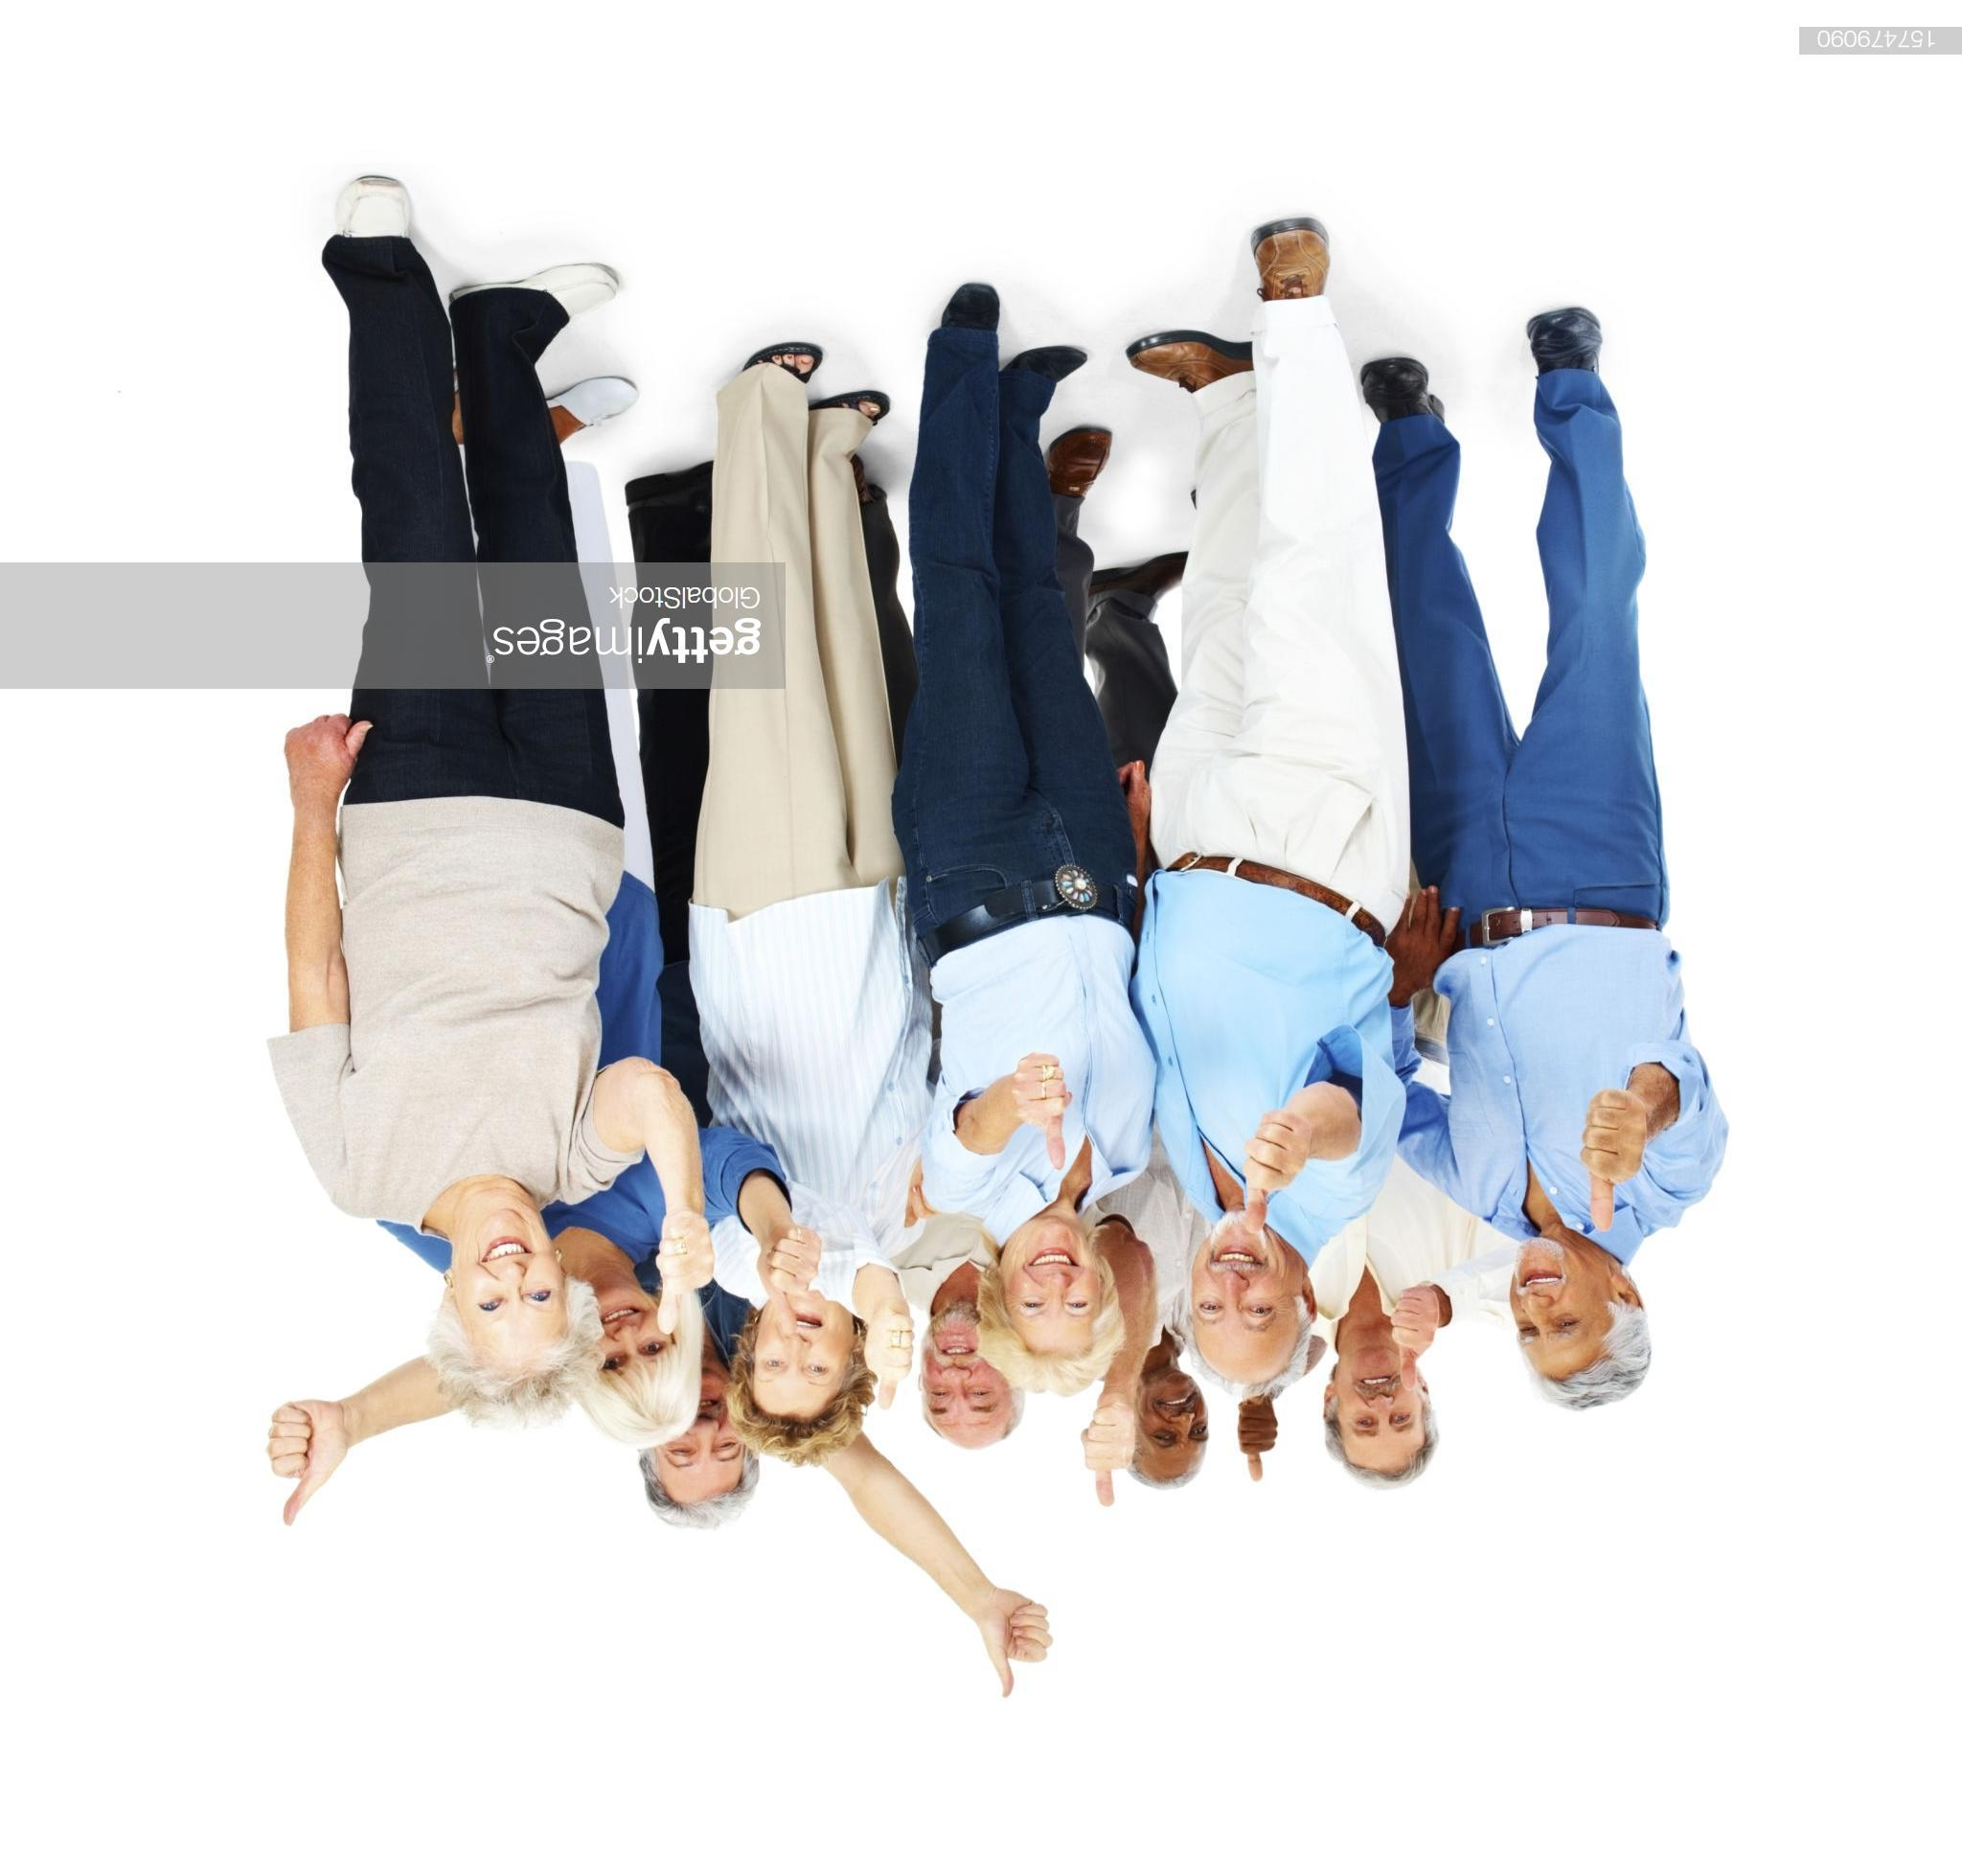thumbsdown: (1580, 1088, 1648, 1231), (1244, 1111, 1312, 1235), (265, 1400, 328, 1527), (655, 1210, 716, 1335), (1011, 1051, 1072, 1170), (767, 1226, 823, 1335), (1079, 1401, 1135, 1506), (999, 1603, 1055, 1699), (864, 1310, 914, 1410), (1393, 1286, 1440, 1391), (1239, 1401, 1279, 1482)
